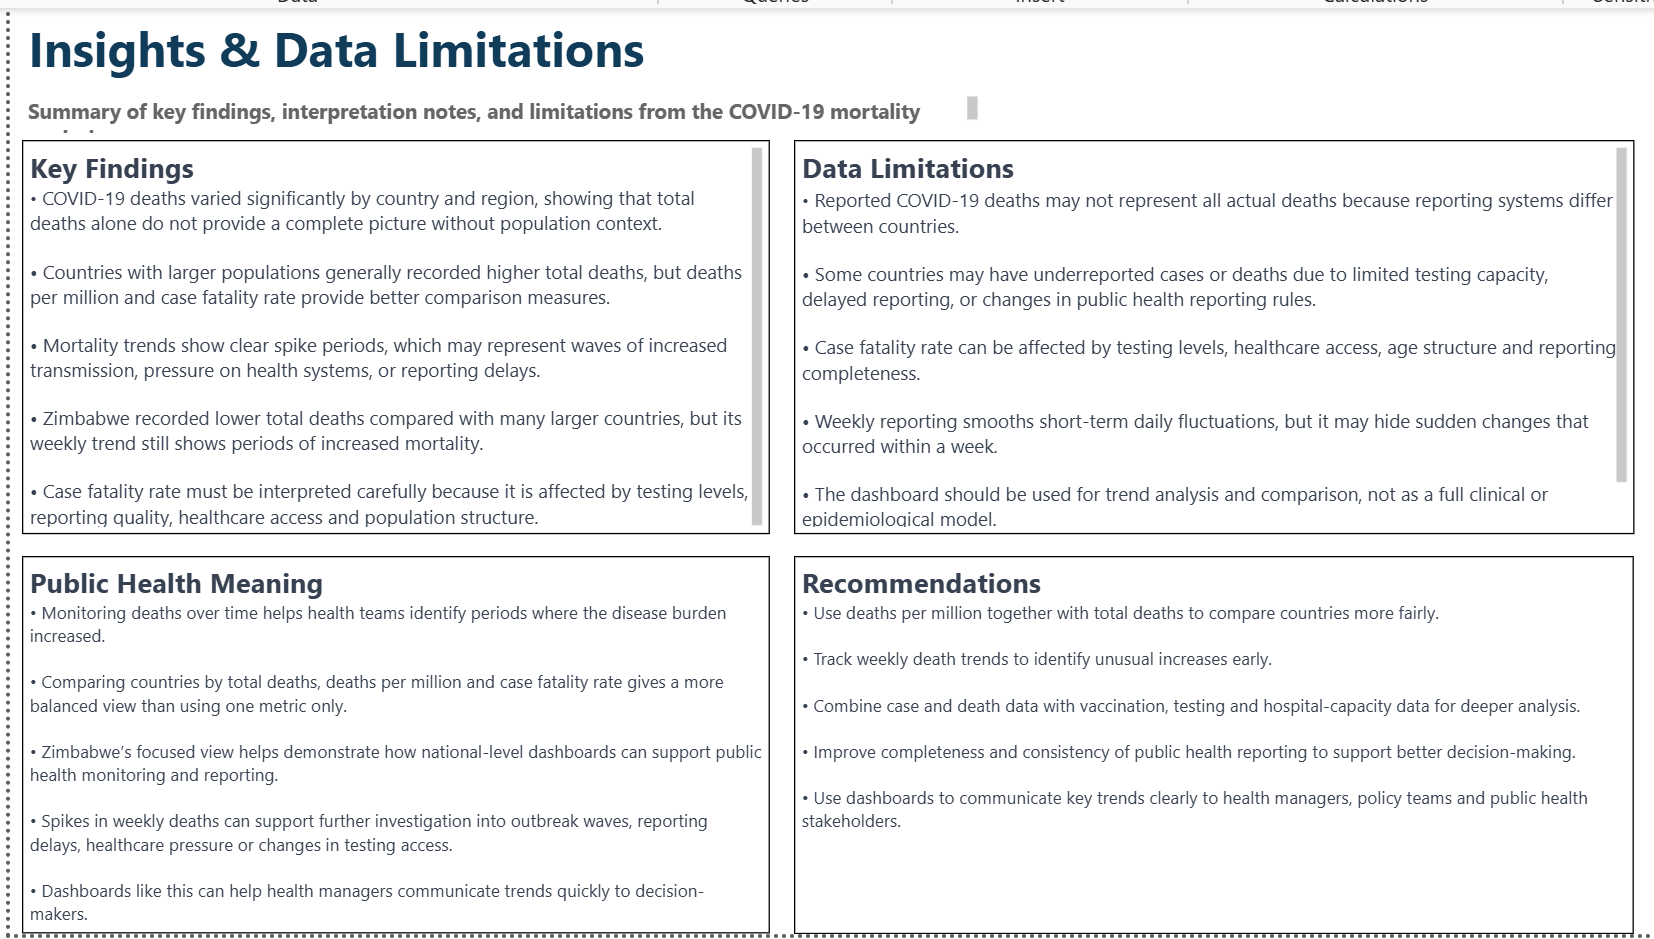

What the dashboard file says about the page in this screenshot:
{"tool":"powerbi","page":{"name":"Insights and Data Limitations","canvas":[1280,720],"ordinal":4},"visuals":[{"type":"textbox","box":[9.5,0,545.3,64.4],"z":0},{"type":"textbox","box":[9.5,64.4,747.9,37.9],"z":1000},{"type":"textbox","box":[9.5,426,581.3,293.5],"z":2000},{"type":"textbox","box":[609.7,102.2,653.3,306.7],"z":3000},{"type":"textbox","box":[610,426,653,294],"z":4000},{"type":"textbox","box":[9.5,102.2,581.3,306.7],"z":5000}]}

Visuals, with their boxes in screenshot pixels (x1, y1, x2, y2):
textbox: pyautogui.locateOnScreen(25, 9, 720, 91)
textbox: pyautogui.locateOnScreen(25, 91, 978, 139)
textbox: pyautogui.locateOnScreen(25, 551, 766, 925)
textbox: pyautogui.locateOnScreen(790, 139, 1622, 530)
textbox: pyautogui.locateOnScreen(790, 551, 1622, 926)
textbox: pyautogui.locateOnScreen(25, 139, 766, 530)
